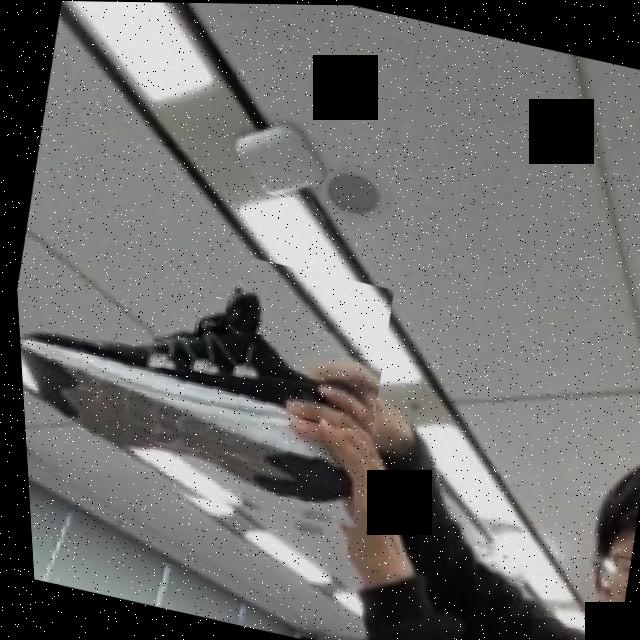shoe: (10, 208, 402, 541)
